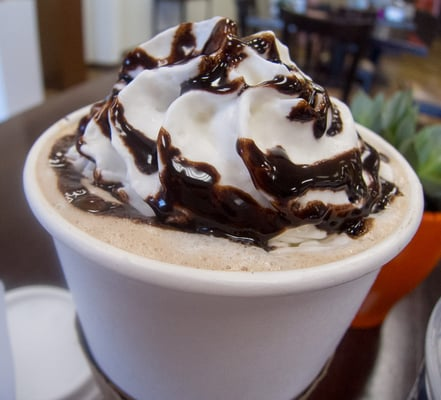sushi: (21, 15, 429, 394)
